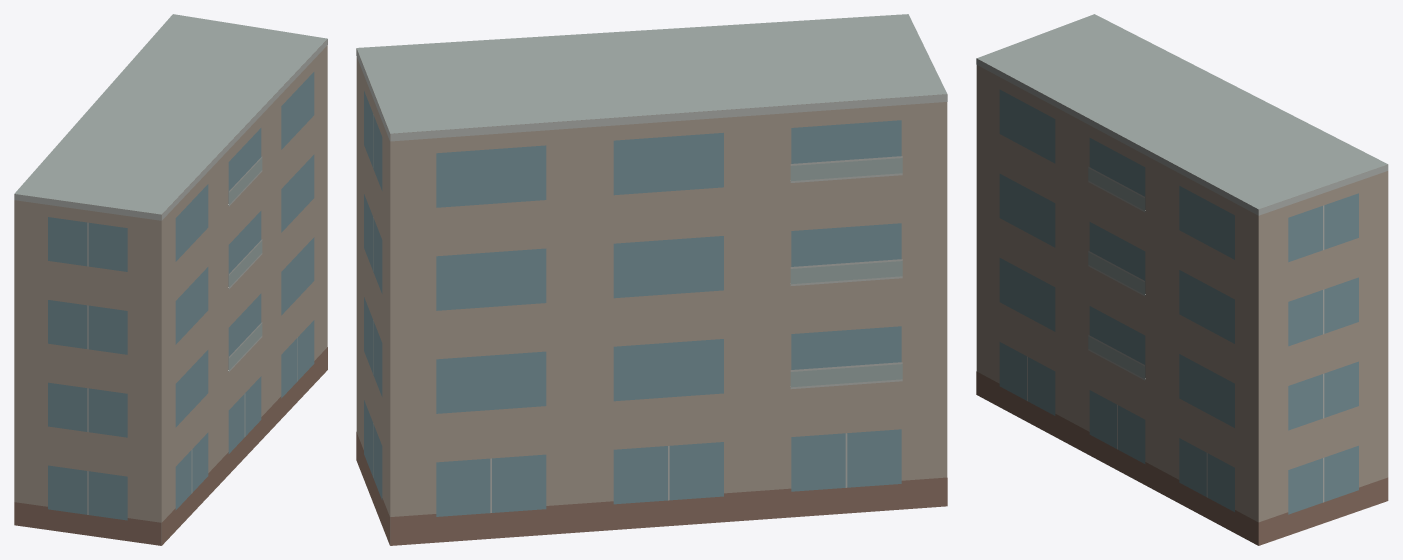
The model's file is survey-upis-32989251.glb.
3 views of the same model, side by side, from view 1: azimuth 30°, elevation 25°; view 2: azimuth 150°, elevation 25°; view 3: azimuth 270°, elevation 25° (orthographic). The views are drawn at different scales.
Parts seen in each view (by area): view 1: survey-upis-32989251.tmp; view 2: survey-upis-32989251.tmp; view 3: survey-upis-32989251.tmp.
Part boxes in pixels (left/top/right/bottom): survey-upis-32989251.tmp: left=14, top=14, right=327, bottom=545; survey-upis-32989251.tmp: left=356, top=14, right=947, bottom=545; survey-upis-32989251.tmp: left=976, top=14, right=1388, bottom=545.
Bounding box in the file's own units: 16.07 × 12.9 × 14.32.
